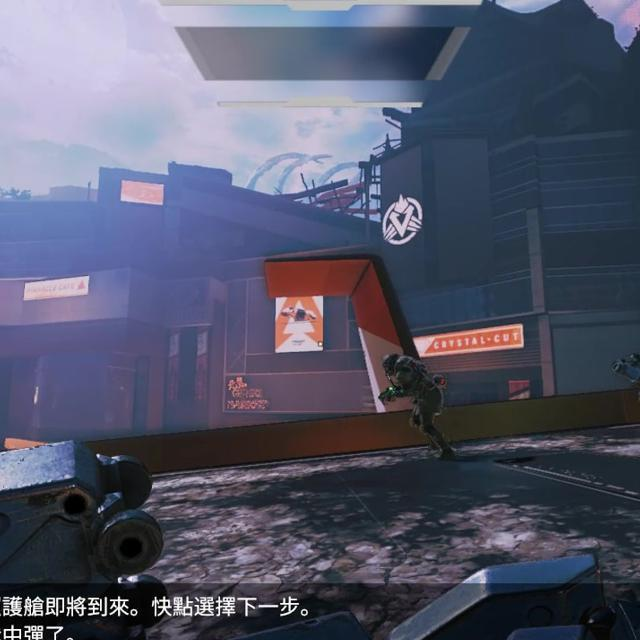avatar: (379, 353, 445, 457)
